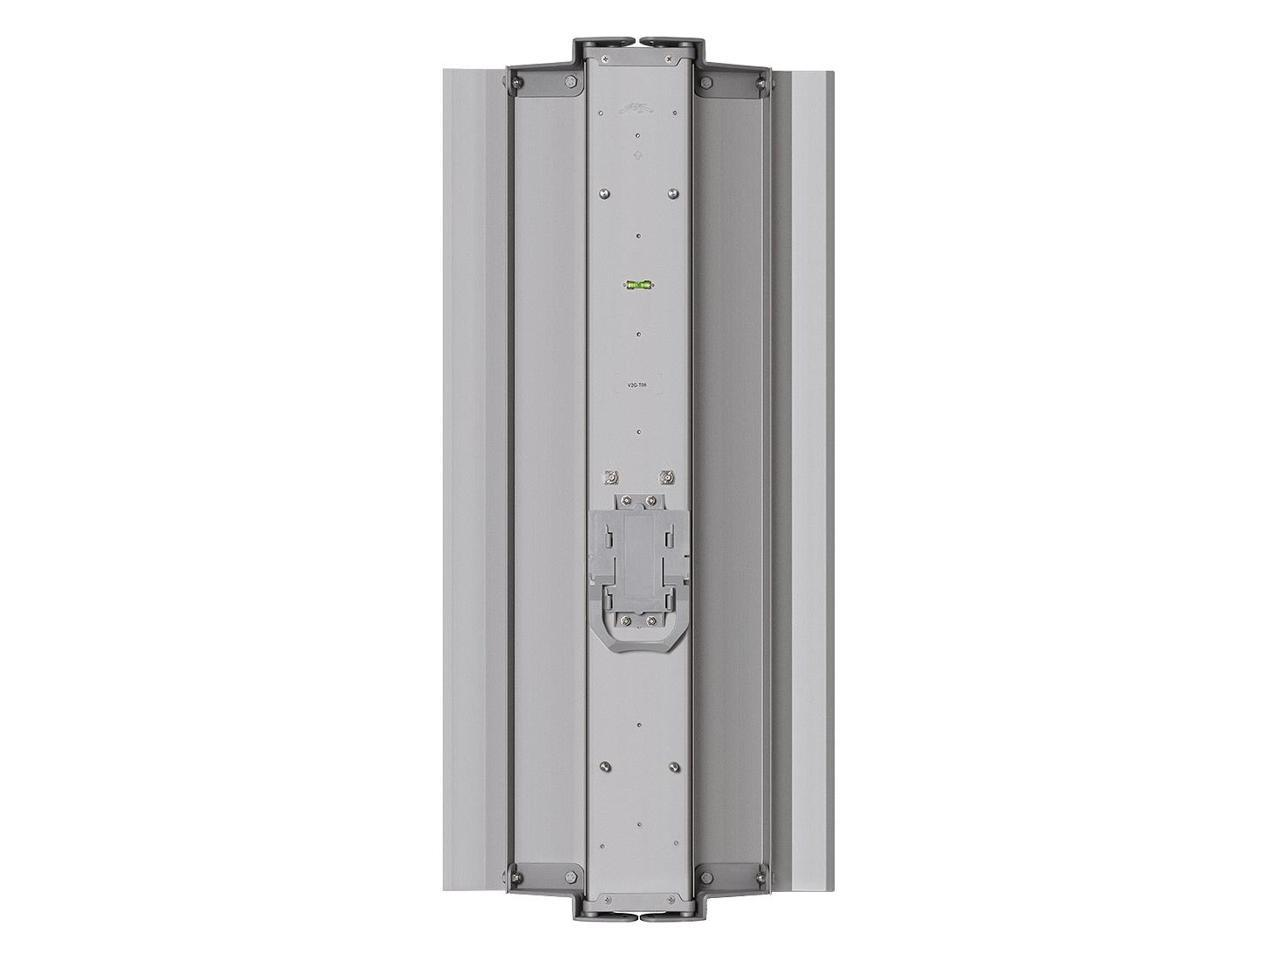sa: (405, 26, 859, 932)
